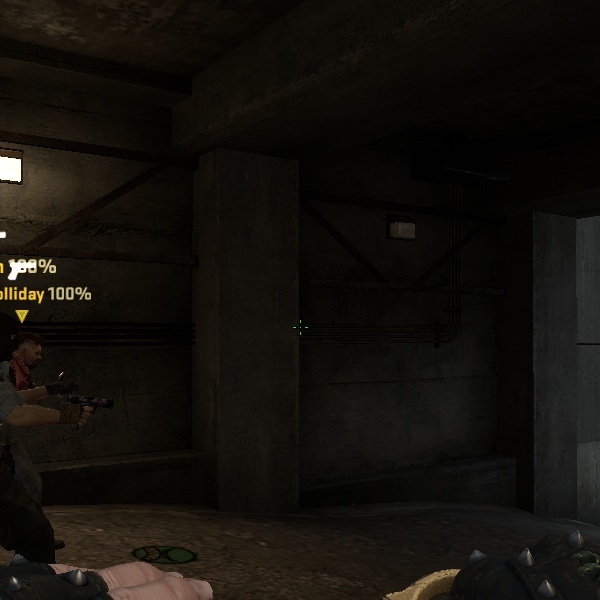t_body: (1, 328, 105, 565)
t_head: (9, 328, 55, 377)
